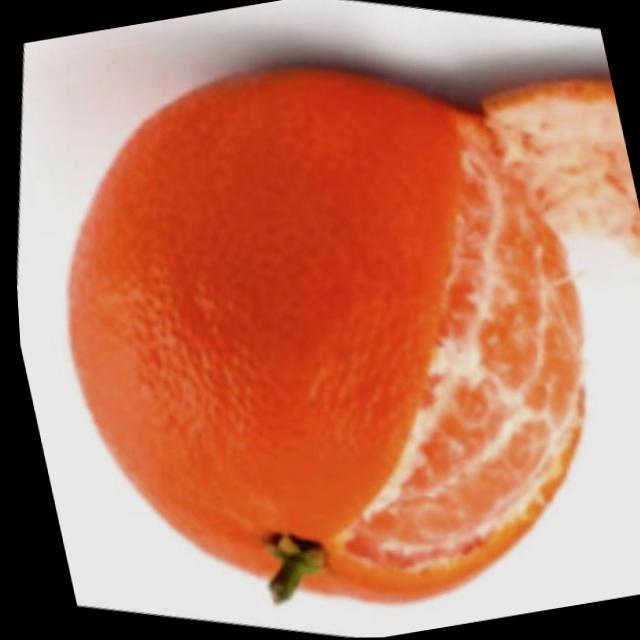Orange: (10, 25, 635, 640)
